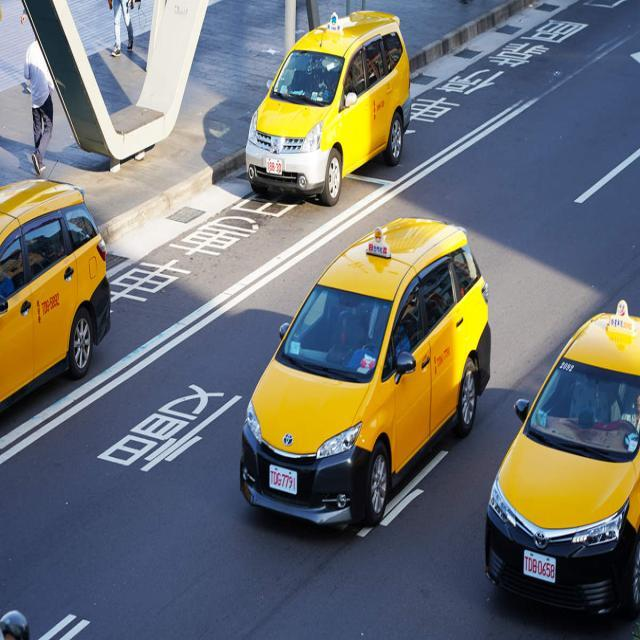taxi: (210, 199, 497, 544), (488, 286, 640, 616), (239, 1, 441, 205), (1, 171, 133, 416)
